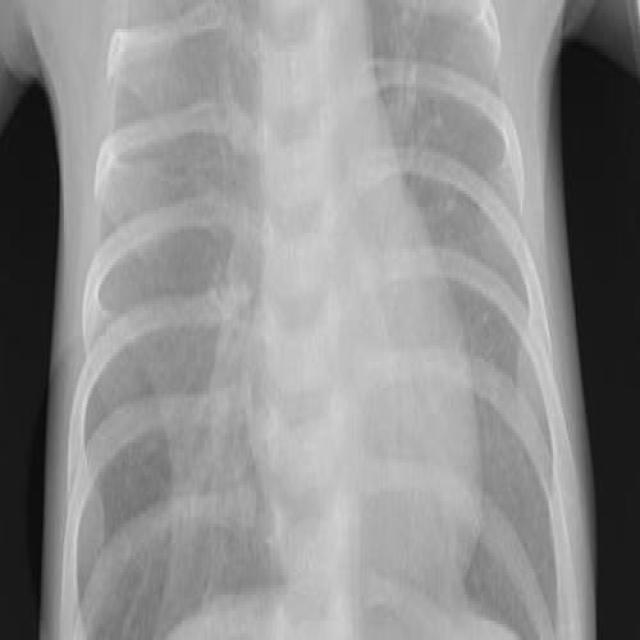low-pneumonia: (173, 137, 260, 558), (387, 19, 440, 182)
